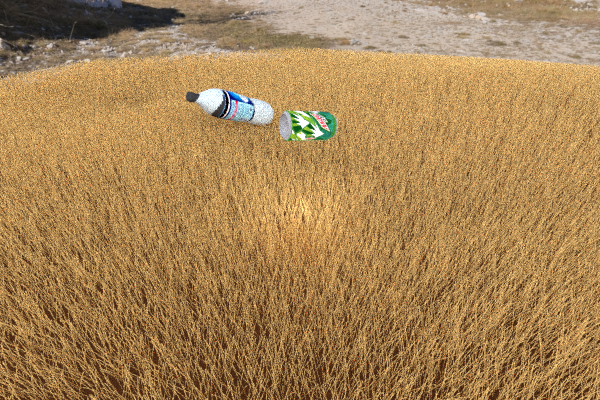bottle: (185, 88, 274, 125)
can: (178, 177, 236, 268), (279, 110, 337, 140)
